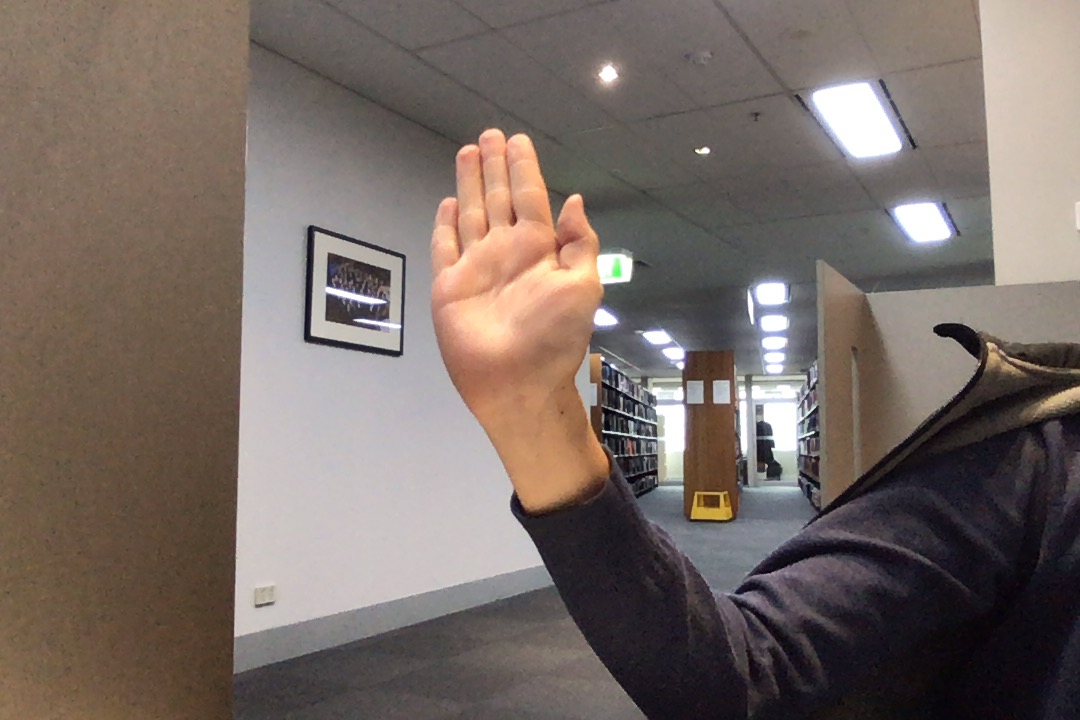palmhand: (419, 119, 613, 408)
